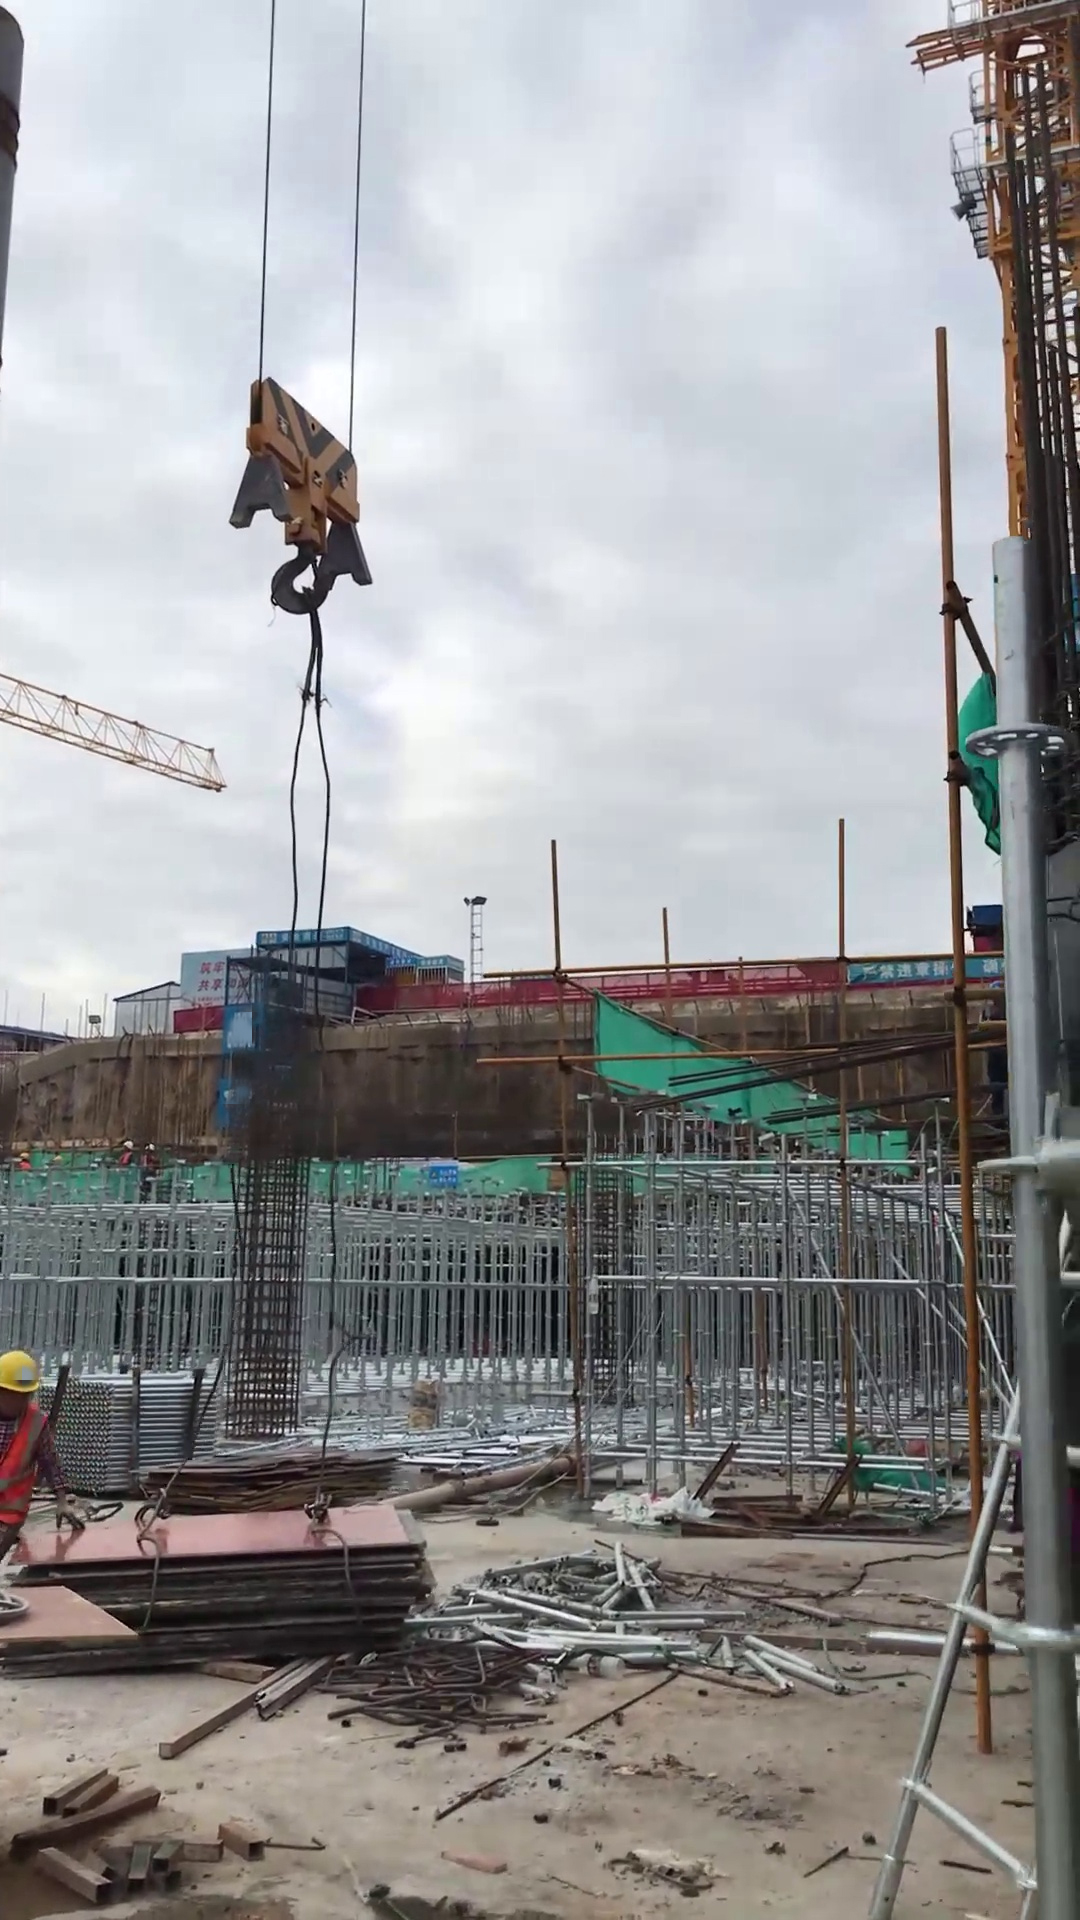board: (1, 1489, 447, 1699), (130, 1425, 426, 1537)
fence: (392, 951, 835, 1022)
helmet: (1, 1351, 52, 1408)
hook: (221, 353, 387, 682)
person: (1, 1342, 76, 1567)
scaffold: (32, 1361, 226, 1499)
slogan: (847, 958, 1008, 983)
vest: (1, 1406, 66, 1554)
